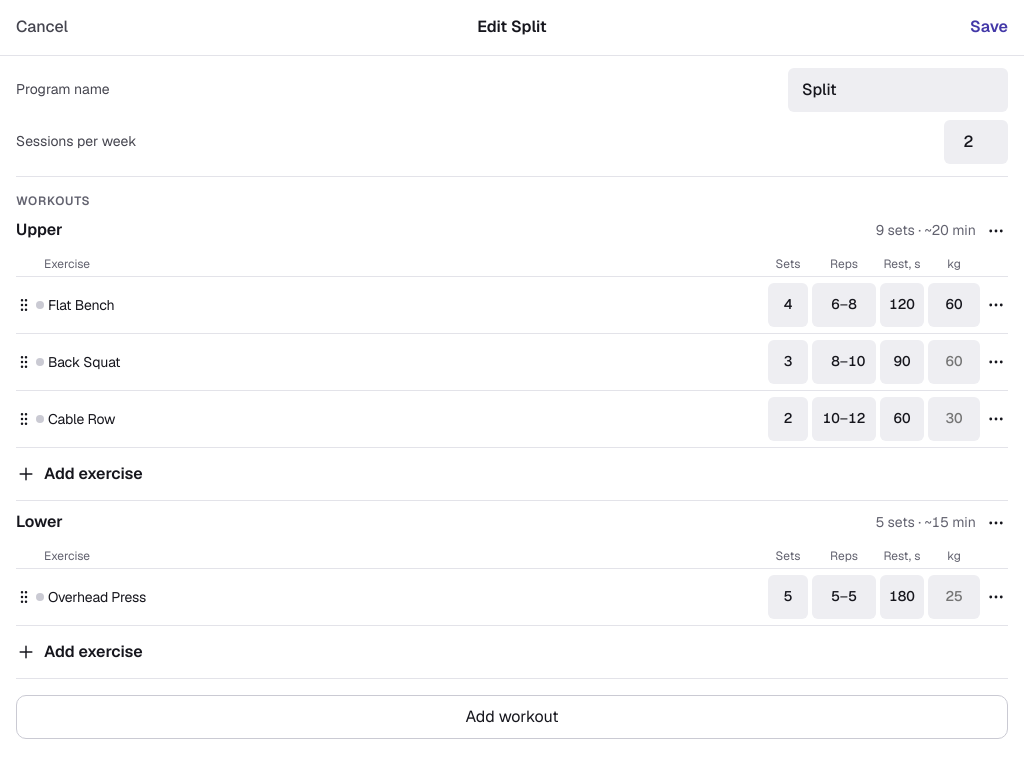
Test: O14 the exercise search lists only library Exercises whose name matches, case-insensitively
The width and height of the screenshot is (1024, 768).
Click the button "Add exercise" below "Cable Row" at (93,473), box [16,448,1008,500]
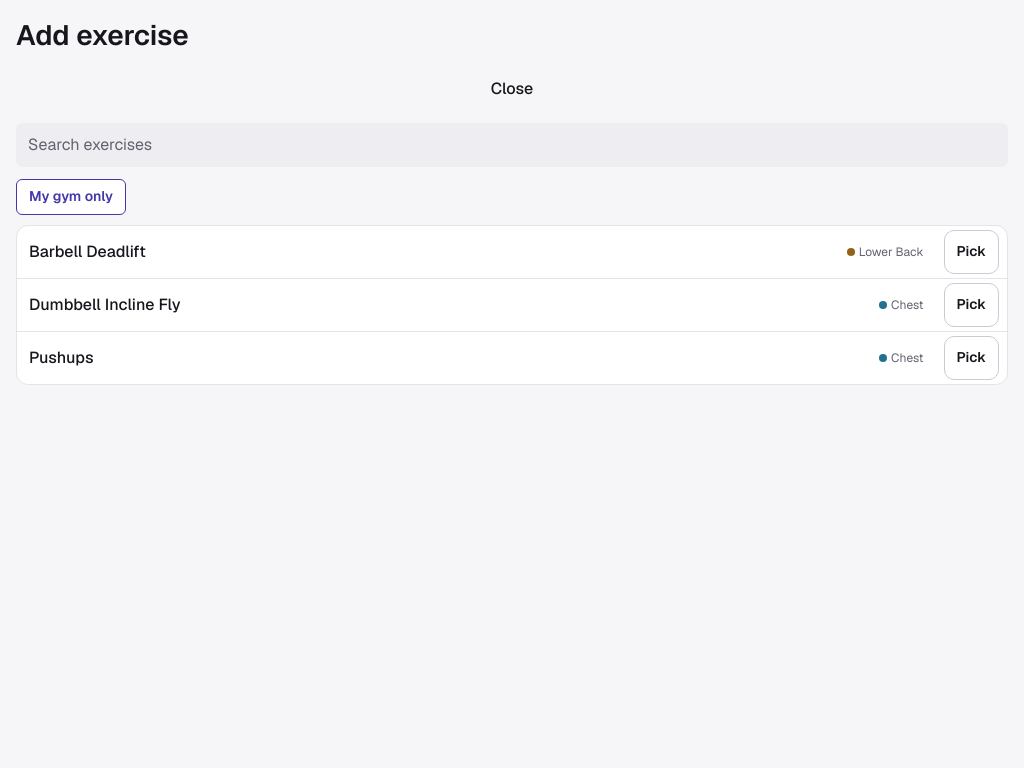
Type "BARBELL" into the search field labelled "Search exercises" at (512,145), box [16,123,1008,167]
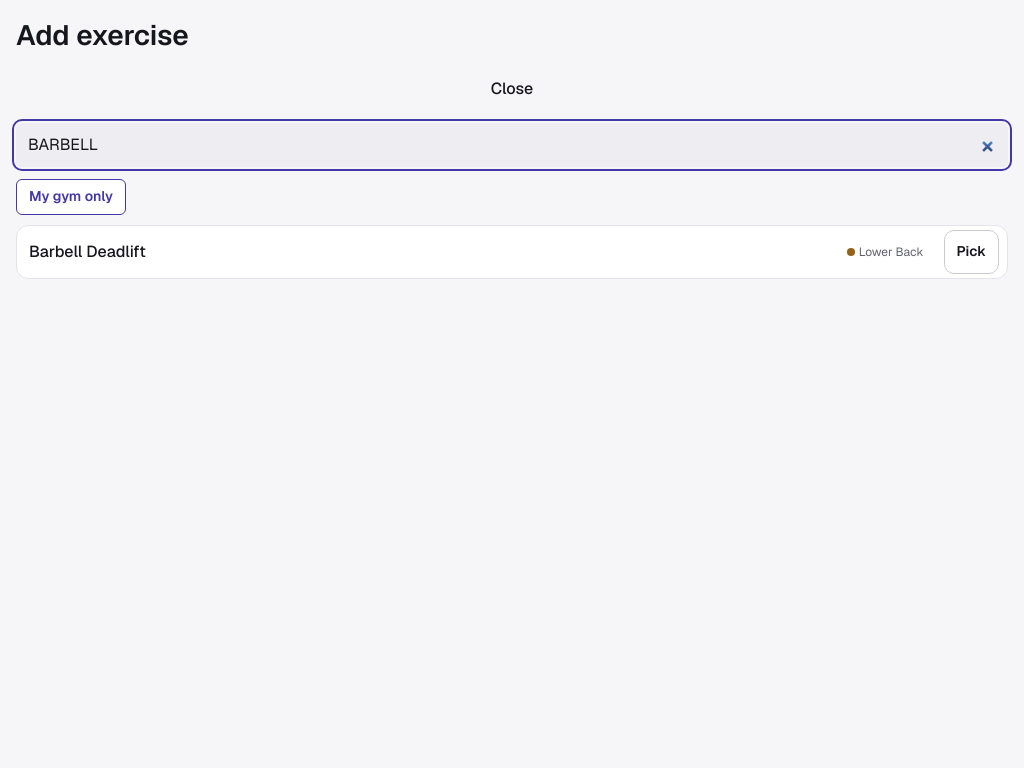
Result: the text "Barbell Deadlift" is shown at [29,242,146,262]
Result: the number of buttons "Pick" is 1 at [944,230,999,274]
Result: the button "Dumbbell Incline Fly" is gone
